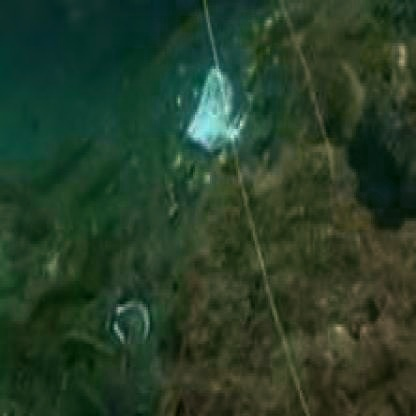misc: (172, 46, 278, 198)
